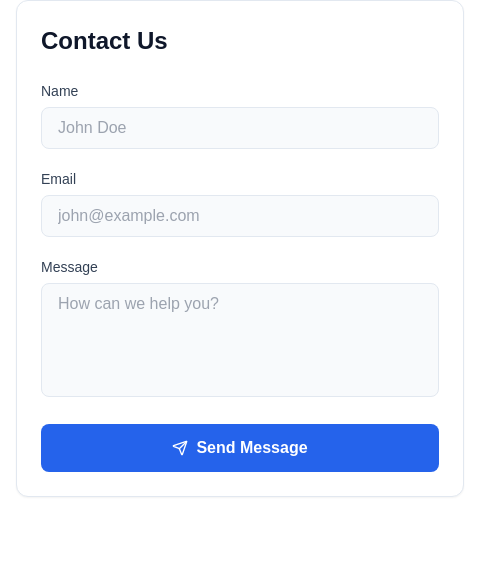
ContactForm › shows validation errors when submitting empty fields
This screenshot has width=481, height=580.
Click the button "Send Message": {"x": 240, "y": 448} 41,424 -> 439,472
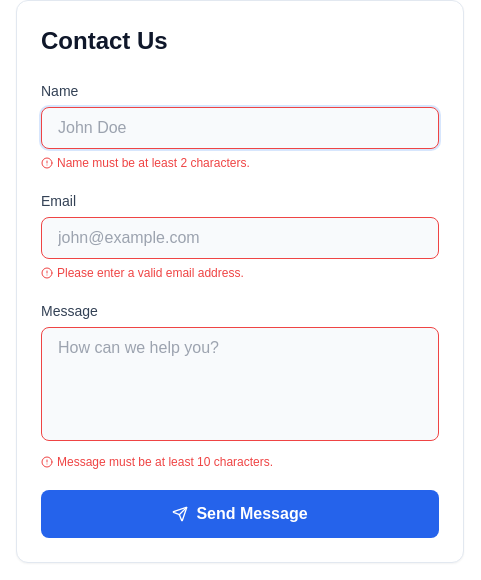
Check: the text "Name must be at least 2 characters." is shown, box 41,156 -> 250,170
Check: the text "Please enter a valid email address." is shown, box 41,266 -> 244,280
Check: the text "Message must be at least 10 characters." is shown, box 41,455 -> 273,469
